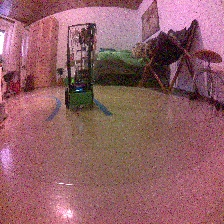rob: (63, 68, 94, 109)
